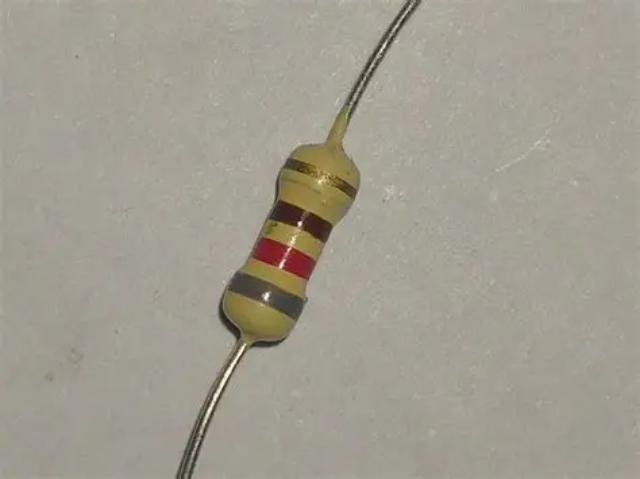brown: (265, 196, 336, 245)
grey: (222, 268, 307, 322)
red: (249, 235, 317, 282)
resistor: (161, 106, 402, 381)
silver: (279, 152, 362, 201)
